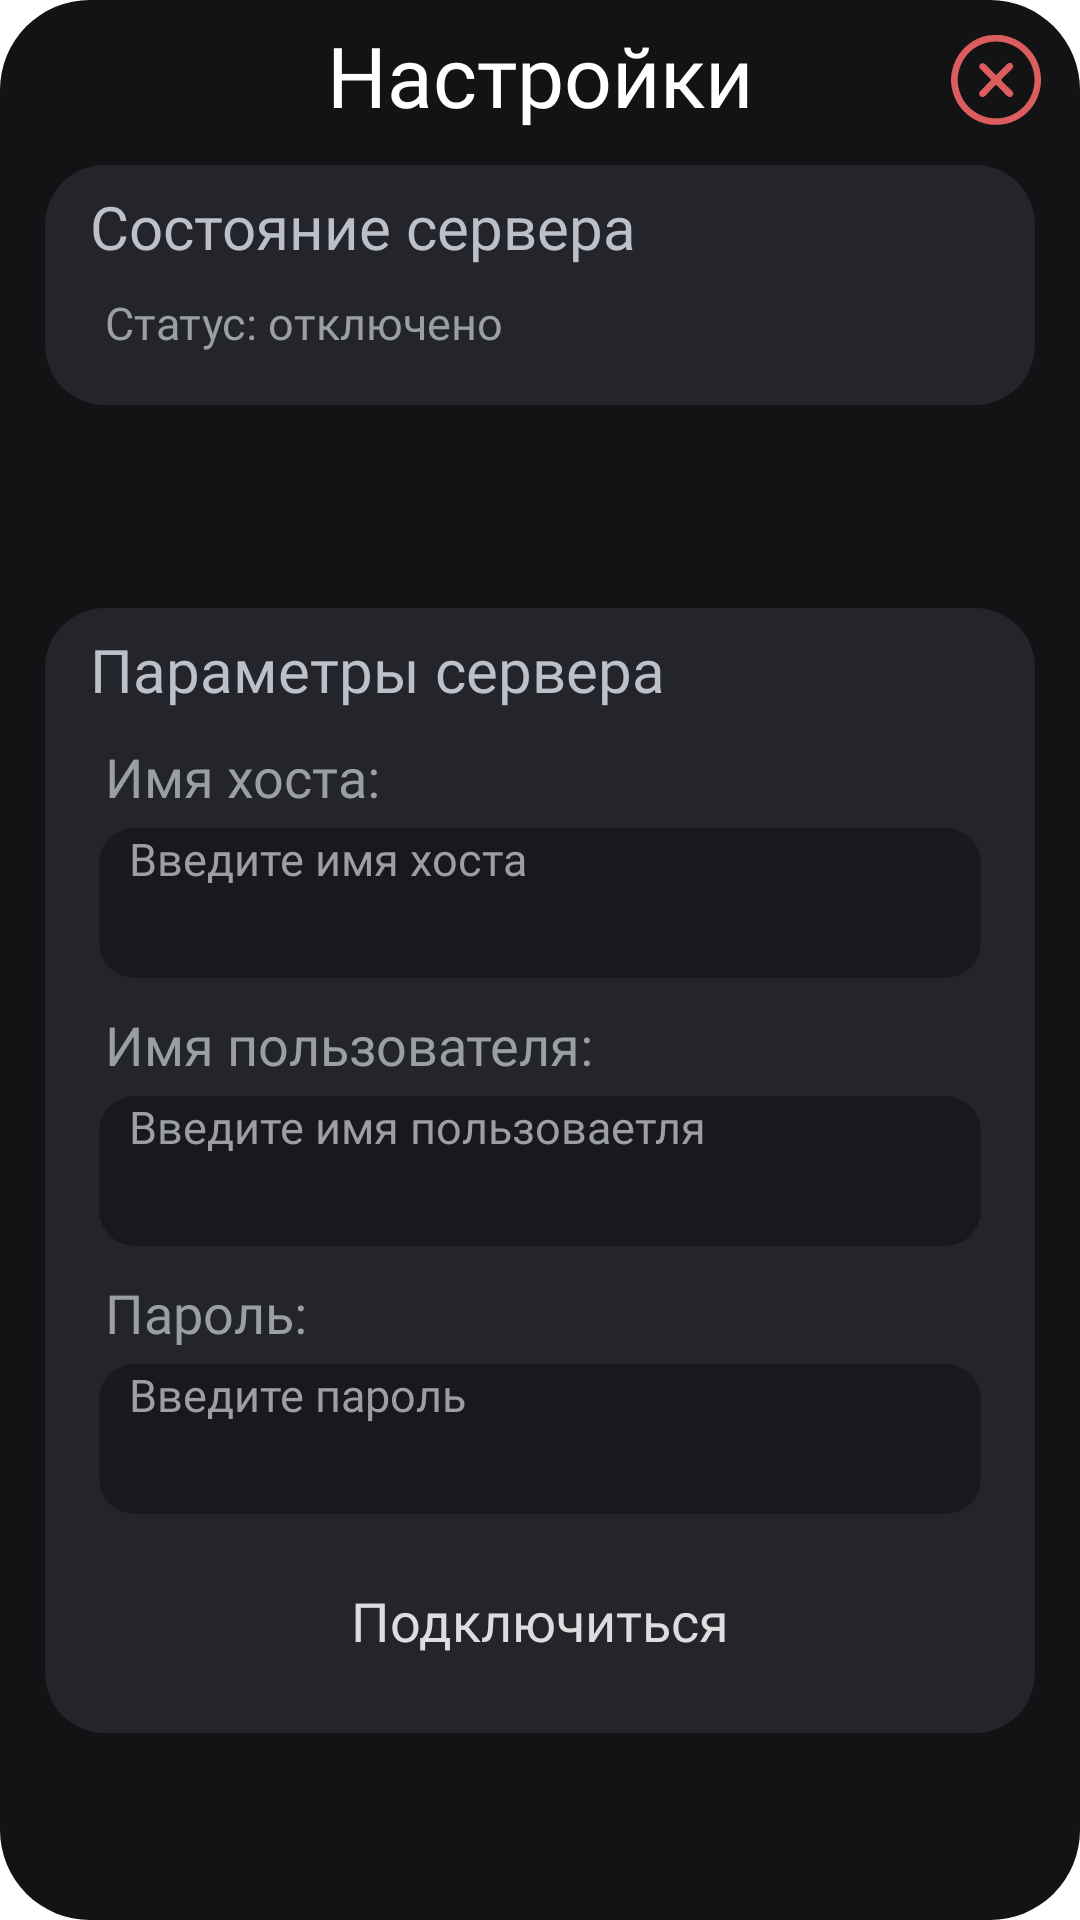

Icons on this 1080x1920 Android screen, each with the point to tap as [x,y]:
close: [996,80]
